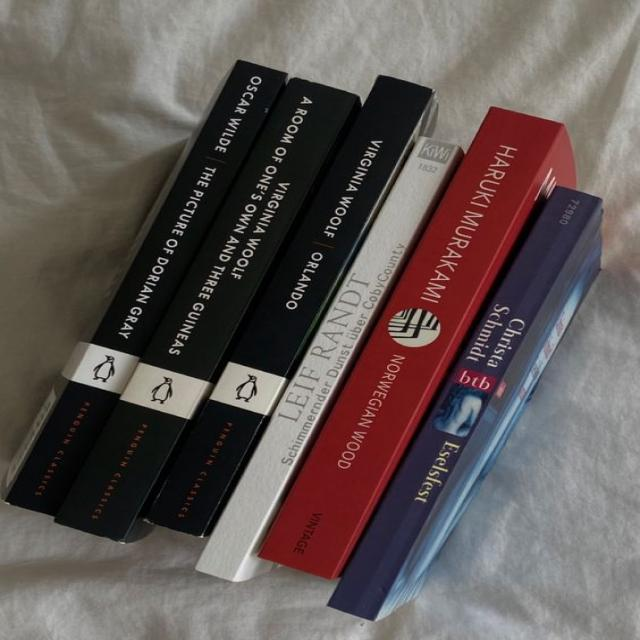book: (258, 109, 573, 579), (57, 77, 359, 539), (150, 76, 431, 534), (9, 60, 285, 515), (335, 182, 605, 623), (196, 138, 462, 580)
